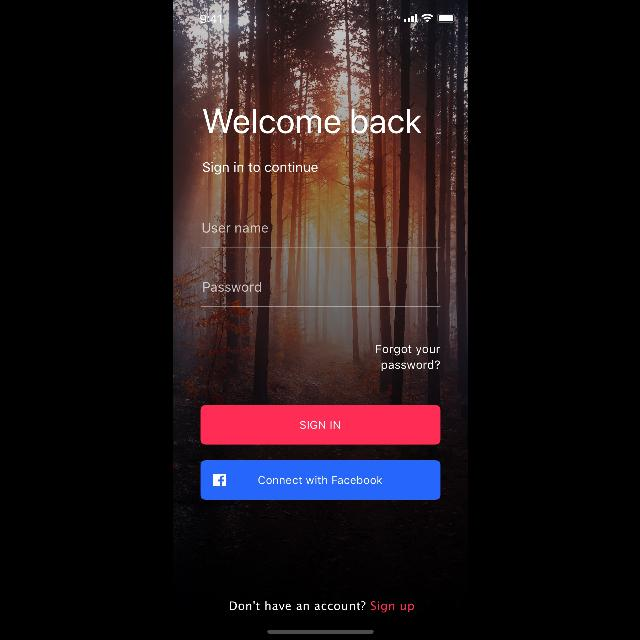backgroundimage: (172, 1, 468, 640)
input: (200, 222, 440, 248), (200, 282, 440, 306)
text: (202, 108, 422, 134), (229, 601, 413, 613), (376, 344, 440, 372), (202, 162, 316, 174), (202, 223, 268, 233), (203, 282, 261, 292)
textbutton: (200, 460, 440, 500), (200, 406, 440, 444)
uppertaskbar: (199, 14, 456, 24)
